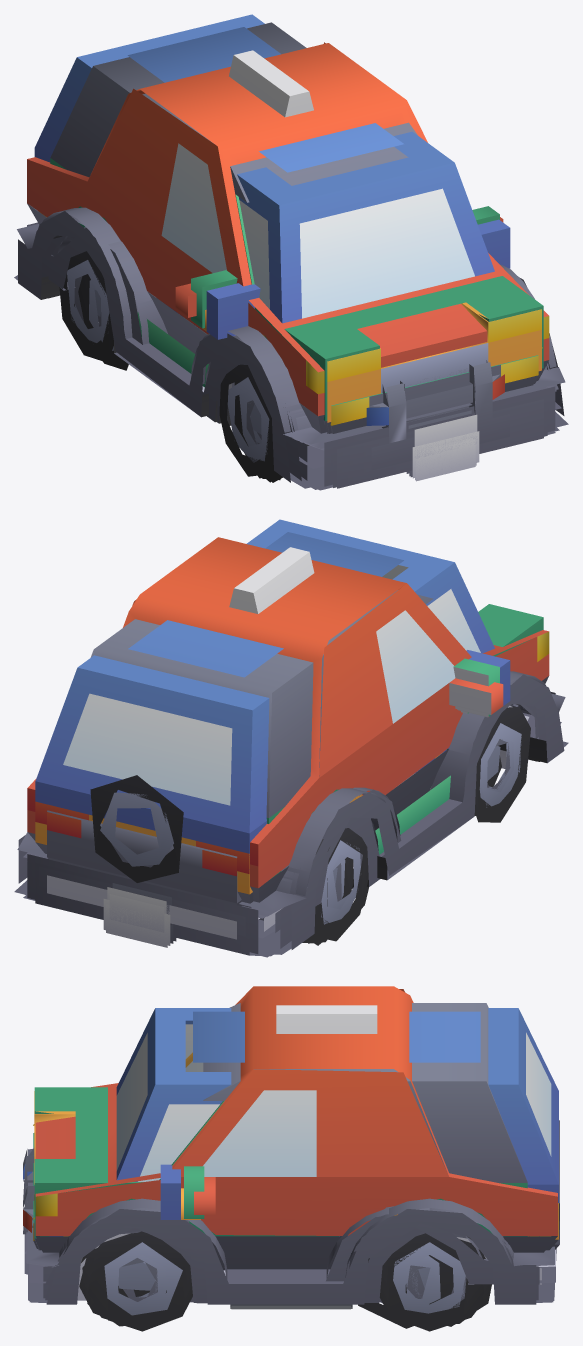
Rendered from city.glb.
The picture shows the model from 3 angles, top to bottom: view 1: azimuth 30°, elevation 25°; view 2: azimuth 150°, elevation 25°; view 3: azimuth 270°, elevation 25°; orthographic projection. The views are drawn at different scales.
Visible parts, largest first — view 1: C_sedan, C_van, C_suv, C_taxi, C_hatchback_sports, C_police; view 2: C_sedan, C_van, C_suv, C_police, C_taxi, C_hatchback_sports; view 3: C_sedan, C_van, C_suv, C_taxi, C_police, C_hatchback_sports, B_large5_rest.
Boxes of the visible parts, x1,y1,x2,y2 form: C_sedan: [14, 42, 568, 488]; C_van: [34, 14, 559, 489]; C_suv: [42, 22, 561, 478]; C_taxi: [31, 50, 557, 489]; C_hatchback_sports: [52, 221, 555, 490]; C_police: [97, 315, 509, 470]; C_sedan: [14, 537, 568, 954]; C_van: [26, 519, 539, 957]; C_suv: [90, 590, 561, 925]; C_police: [47, 704, 529, 939]; C_taxi: [23, 547, 546, 956]; C_hatchback_sports: [39, 684, 538, 942]; C_sedan: [28, 986, 557, 1331]; C_van: [29, 1008, 558, 1319]; C_suv: [27, 1003, 527, 1328]; C_taxi: [27, 1005, 558, 1326]; C_police: [23, 1120, 559, 1300]; C_hatchback_sports: [26, 1133, 554, 1326]; B_large5_rest: [231, 1304, 350, 1309].
Bounding box in the file's own units: 2.59 × 2.39 × 4.4.
3 materials, 1 textured.
